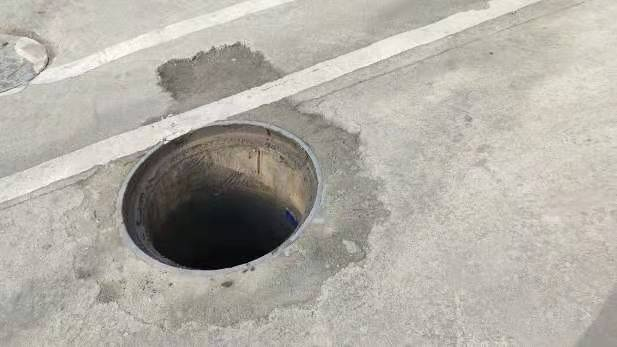well: (116, 120, 324, 273)
